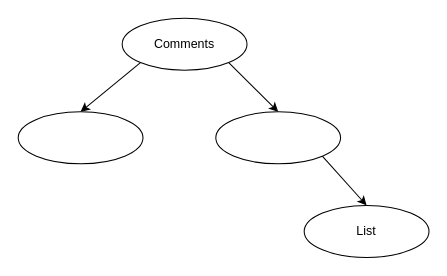
This 447x276 diagram has some shape labels left out. The centre of each missing label's shape, as x and y in pixels:
Form: the point at 80,137
Viewer: the point at 278,137
